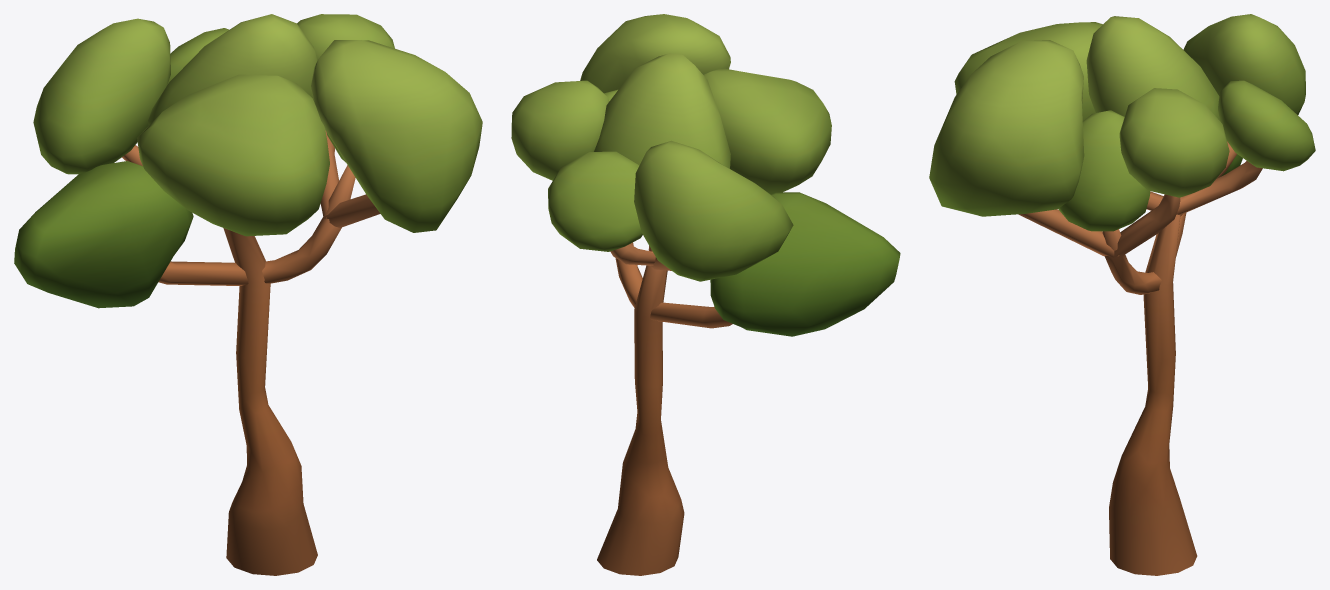
Rendered from Tree_02.fbx.
The picture shows the model from 3 angles, left to right: view 1: azimuth 30°, elevation 25°; view 2: azimuth 150°, elevation 25°; view 3: azimuth 270°, elevation 25°; orthographic projection. The views are drawn at different scales.
Parts seen in each view (by area): view 1: Tree_02; view 2: Tree_02; view 3: Tree_02.
Boxes of the visible parts, bbox=[...] form: Tree_02: bbox=[14, 14, 482, 575]; Tree_02: bbox=[511, 14, 900, 575]; Tree_02: bbox=[929, 14, 1315, 575].
Size of the model in its own units: 226 by 301 by 200.
